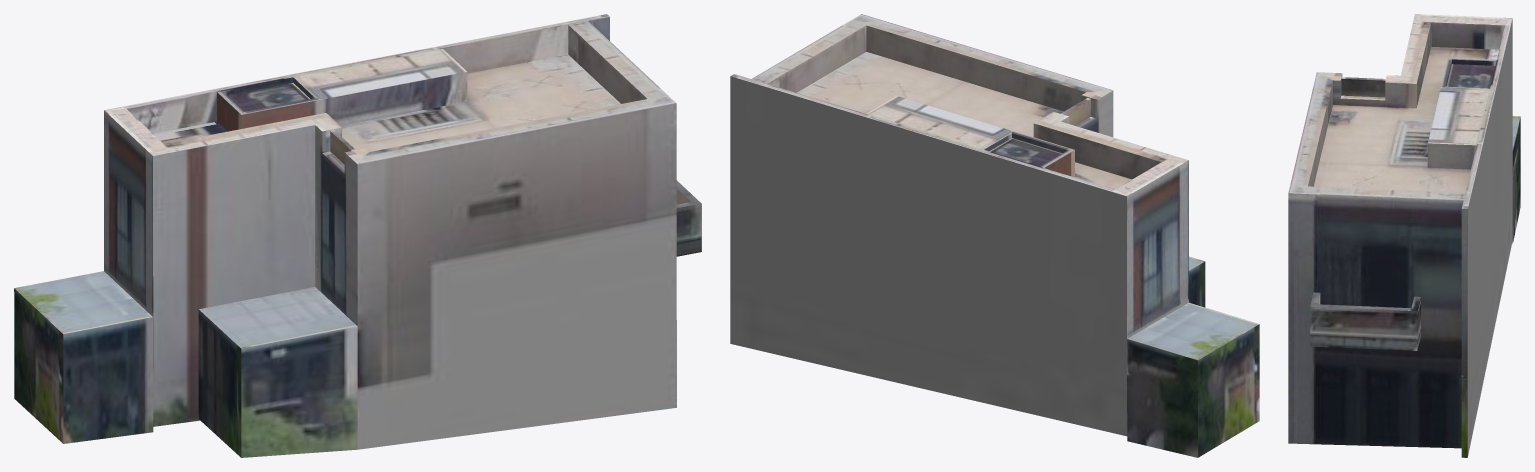
The picture shows the model from 3 angles, left to right: view 1: azimuth 30°, elevation 25°; view 2: azimuth 150°, elevation 25°; view 3: azimuth 270°, elevation 25°; orthographic projection. The views are drawn at different scales.
Visible parts, largest first — view 1: B286024033701062A0; view 2: B286024033701062A0; view 3: B286024033701062A0.
Boxes of the visible parts, x1,y1,x2,y2 form: B286024033701062A0: (14, 14, 701, 457); B286024033701062A0: (730, 14, 1259, 457); B286024033701062A0: (1288, 14, 1520, 457).
Size of the model in its own units: 18.95 by 9.48 by 7.98.
Materials: 1 (1 with a texture image).
